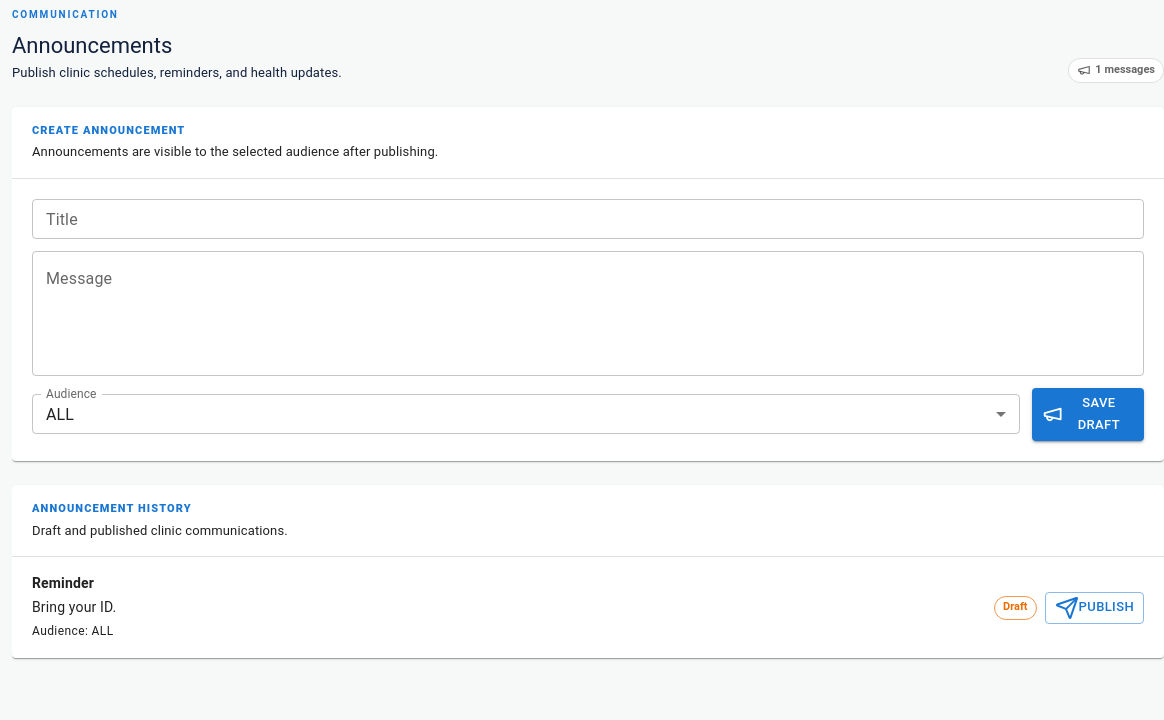
Test: AnnouncementsPage staff workflow › publishes a draft and confirms notification delivery
What coordinates should you click on to do the following:
click the button "Publish"
I would click on:
 (1094, 608)
Its box is 1045,592 -> 1144,624.
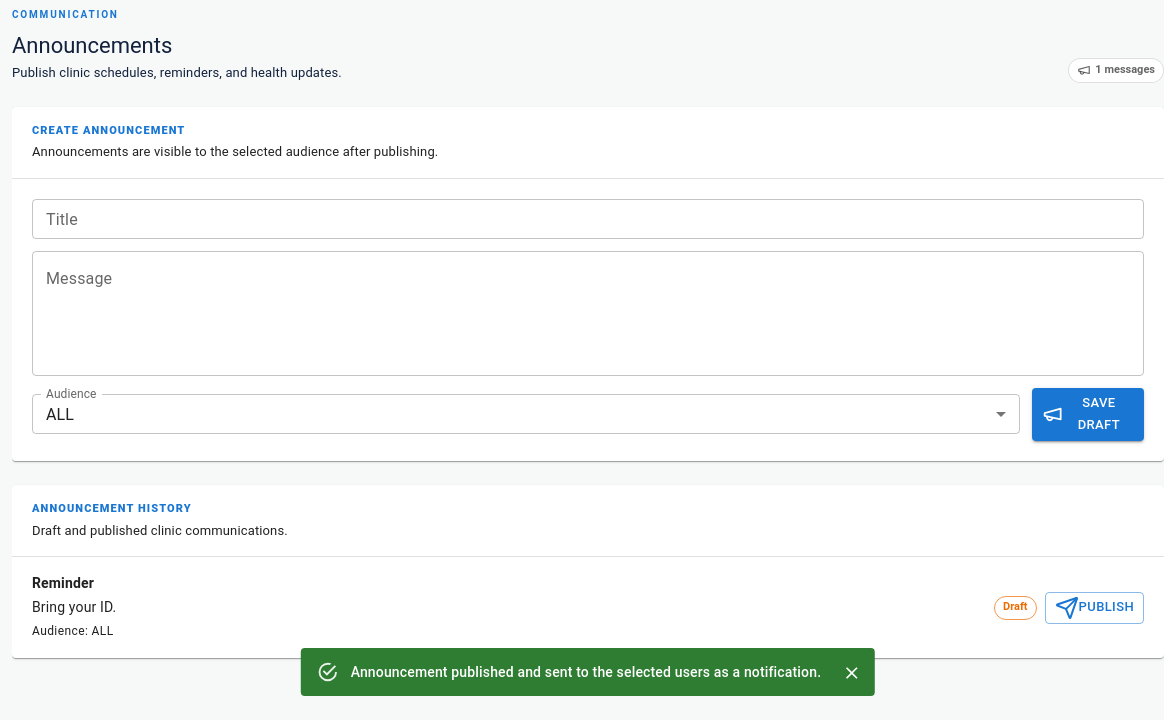
Expected: the message shows "sent to the selected users", 351,664 -> 821,680
